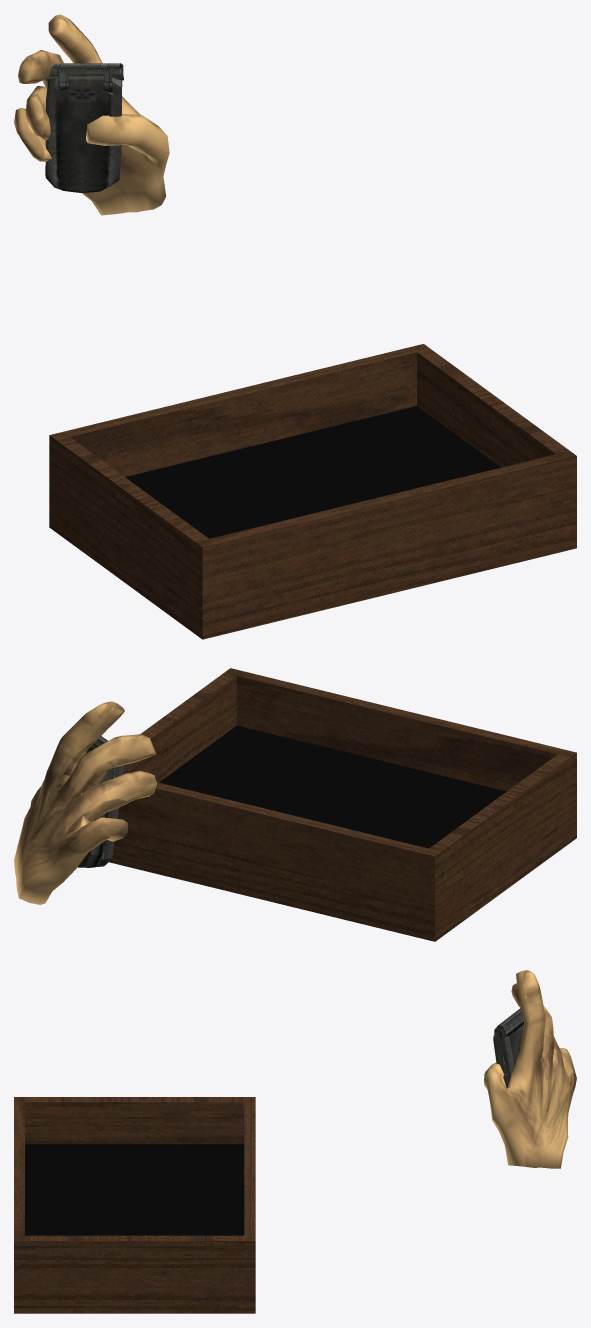
The model's file is dealer hands_burner phone1.glb.
3 renders of one model, top to bottom at view 1: azimuth 30°, elevation 25°; view 2: azimuth 150°, elevation 25°; view 3: azimuth 270°, elevation 25°, orthographic. The views are drawn at different scales.
Visible parts, largest first — view 1: dealer drawer burner phone, dealer hand right_phone, burner phone screen, dealer phone pivot; view 2: dealer drawer burner phone, dealer hand right_phone, dealer phone parent, burner phone screen; view 3: dealer drawer burner phone, dealer hand right_phone, dealer phone parent, dealer phone pivot.
Part boxes in pixels (<box>): dealer drawer burner phone: <box>49,344,576,639</box>; dealer hand right_phone: <box>14,14,169,215</box>; burner phone screen: <box>45,76,121,192</box>; dealer phone pivot: <box>45,63,123,92</box>; dealer drawer burner phone: <box>108,668,576,941</box>; dealer hand right_phone: <box>14,701,156,904</box>; dealer phone parent: <box>78,747,114,867</box>; burner phone screen: <box>94,765,123,867</box>; dealer drawer burner phone: <box>14,1097,255,1313</box>; dealer hand right_phone: <box>484,970,576,1168</box>; dealer phone parent: <box>500,1022,523,1084</box>; dealer phone pivot: <box>494,1008,523,1038</box>.
Bounding box in the file's own units: 6.76 × 5.87 × 11.17.
Materials: 4 (3 with a texture image).
